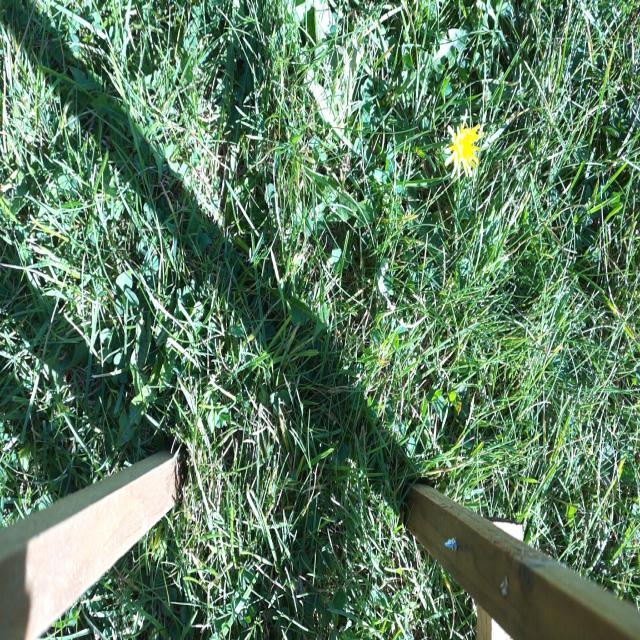flower: (449, 115, 481, 174)
